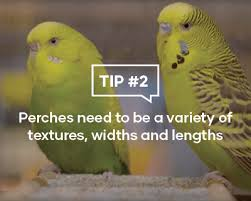budgie: (24, 22, 134, 182), (155, 2, 251, 185)
